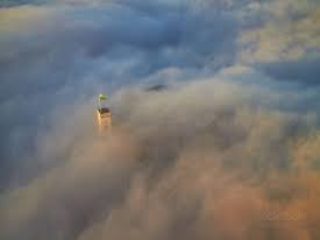smoke: (119, 95, 309, 234)
